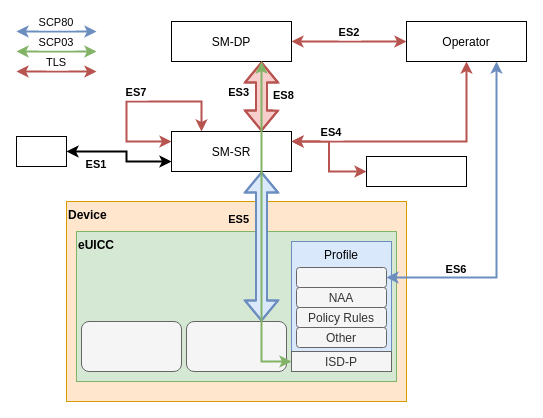
Image size: 543x418. Some labels were removed from this diagram. Here are the shapes that lost their labels. From the top down, the centre of each, then its label:
the point at 41,151: EUM
the point at 416,171: M2M SP
the point at 341,277: MNO-SD
the point at 131,346: ECASD
the point at 236,346: ISD-R
